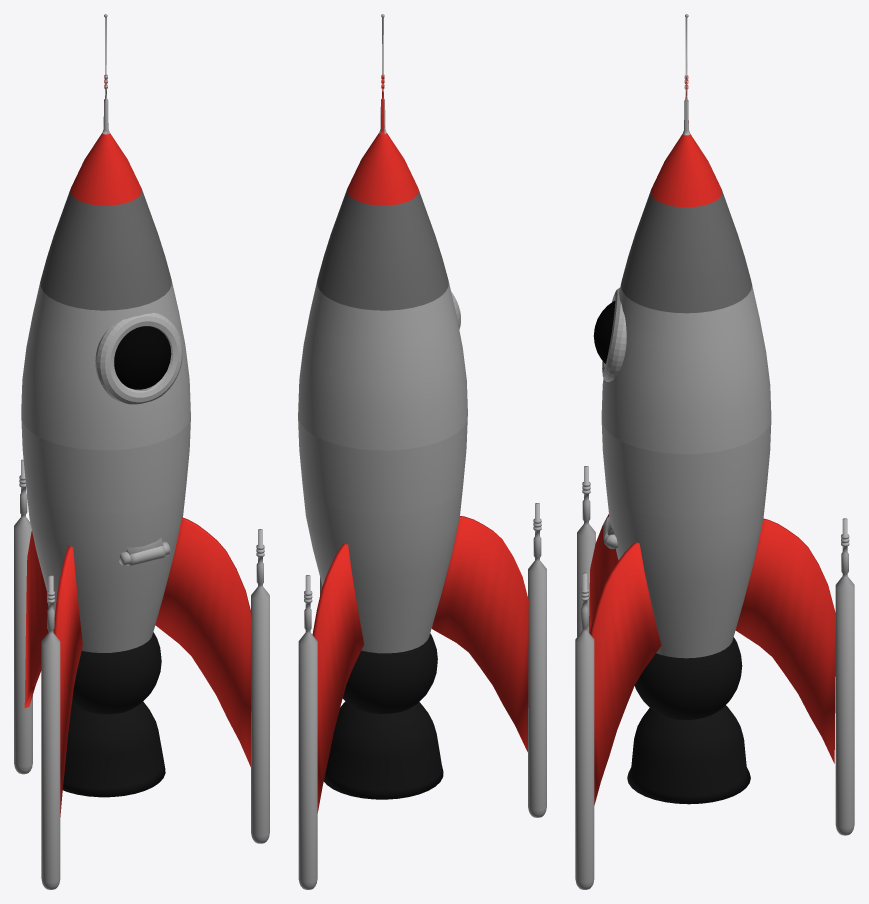
The model's file is Rocket-6.fbx.
3 renders of one model, left to right at view 1: azimuth 30°, elevation 25°; view 2: azimuth 150°, elevation 25°; view 3: azimuth 270°, elevation 25°, orthographic.
Parts seen in each view (by area): view 1: Rocket-6; view 2: Rocket-6; view 3: Rocket-6.
Boxes of the visible parts, box(x1,y1,x2,y2) form: Rocket-6: box(14, 14, 269, 889); Rocket-6: box(298, 14, 546, 889); Rocket-6: box(575, 14, 854, 889).
Bounding box in the file's own units: 209 × 723 × 223.
